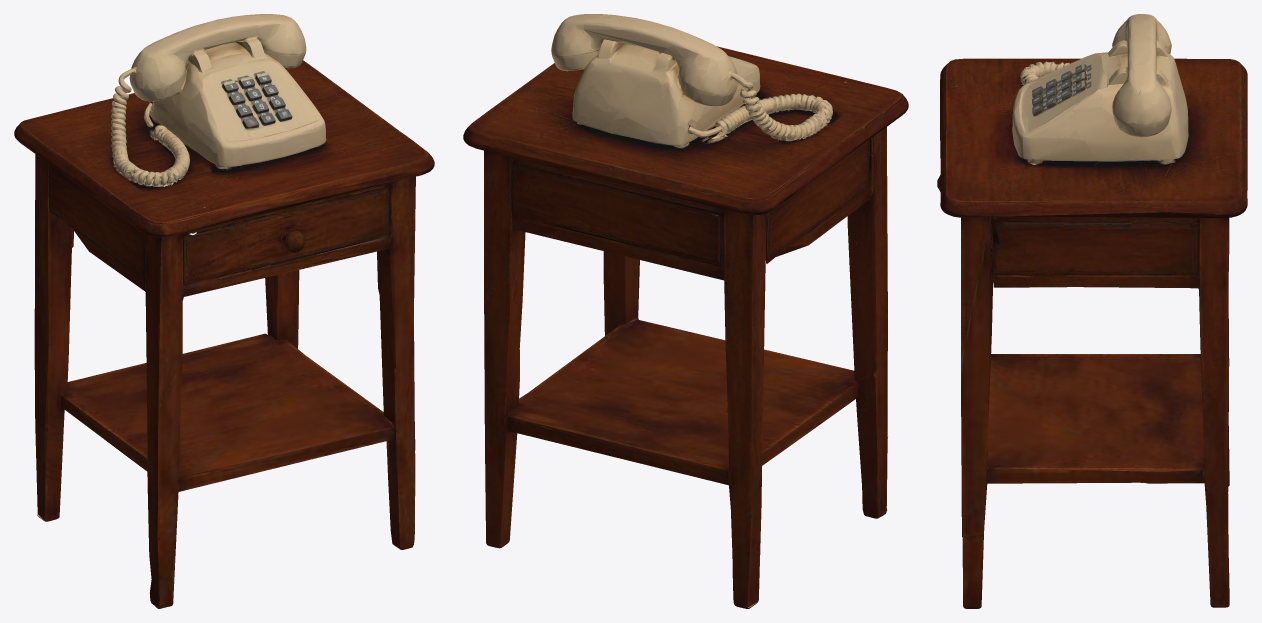
Rendered from w4phonetable.glb.
3 views of the same model, side by side, from view 1: azimuth 30°, elevation 25°; view 2: azimuth 150°, elevation 25°; view 3: azimuth 270°, elevation 25° (orthographic). The views are drawn at different scales.
Parts seen in each view (by area): view 1: output_unwrapped; view 2: output_unwrapped; view 3: output_unwrapped.
Boxes of the visible parts, bbox=[...] form: output_unwrapped: bbox=[14, 14, 434, 608]; output_unwrapped: bbox=[463, 14, 908, 608]; output_unwrapped: bbox=[937, 14, 1247, 608].
Bounding box in the file's own units: 0.4362 × 0.7 × 0.3835.
Materials: 1 (1 with a texture image).
